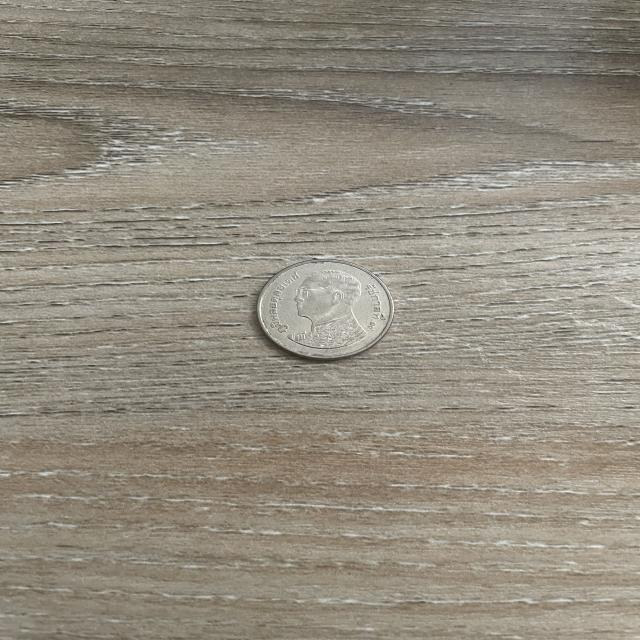1 Bath: (245, 255, 407, 370)
